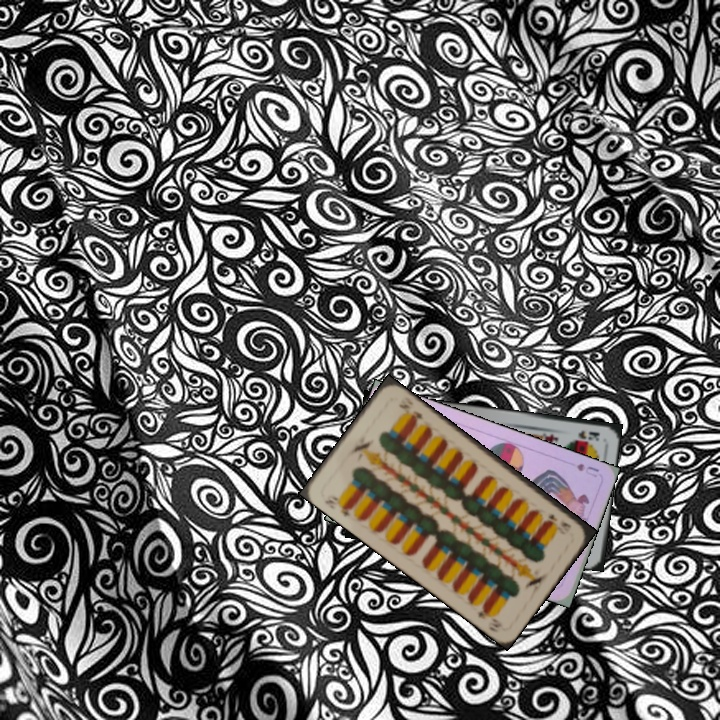E10: (321, 491, 355, 520), (543, 510, 574, 536)
SK: (574, 426, 602, 443)
SU: (572, 459, 602, 480)
